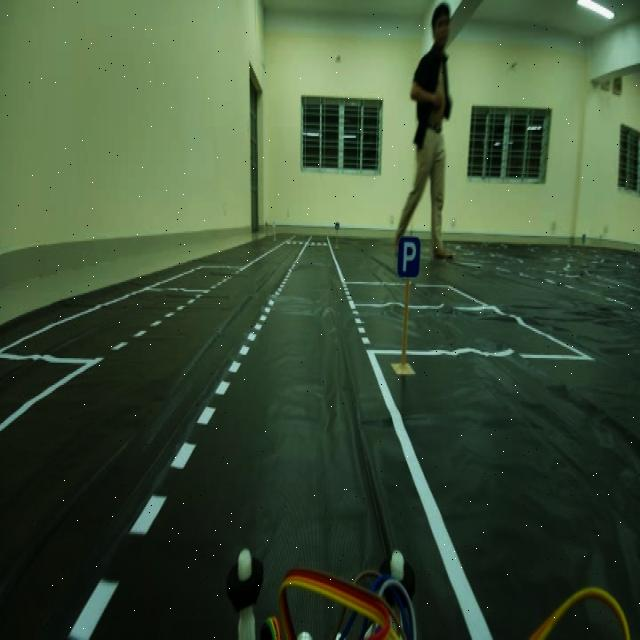parking: (394, 228, 422, 292)
